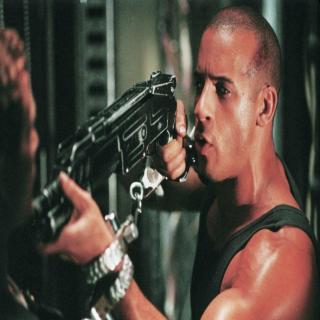gun: (11, 59, 199, 238)
